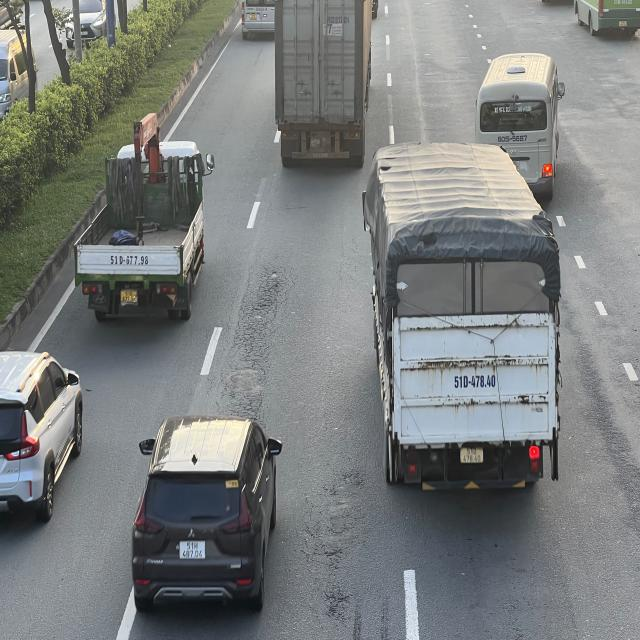car: (137, 416, 286, 614), (0, 348, 83, 524)
coach: (477, 53, 568, 200)
container: (274, 1, 374, 169)
truck: (361, 141, 557, 494), (73, 123, 211, 326)
van: (241, 0, 282, 38)
